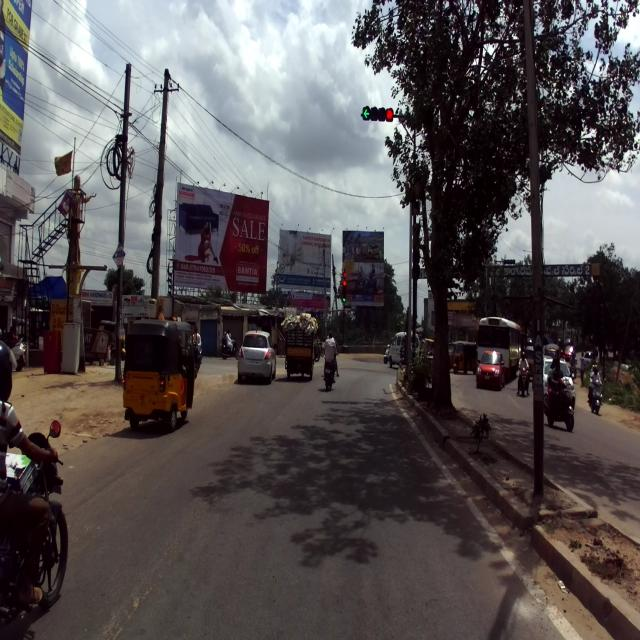autorickshaw: (122, 319, 198, 432)
car: (236, 327, 276, 382)
motorcycle: (0, 420, 68, 628)
